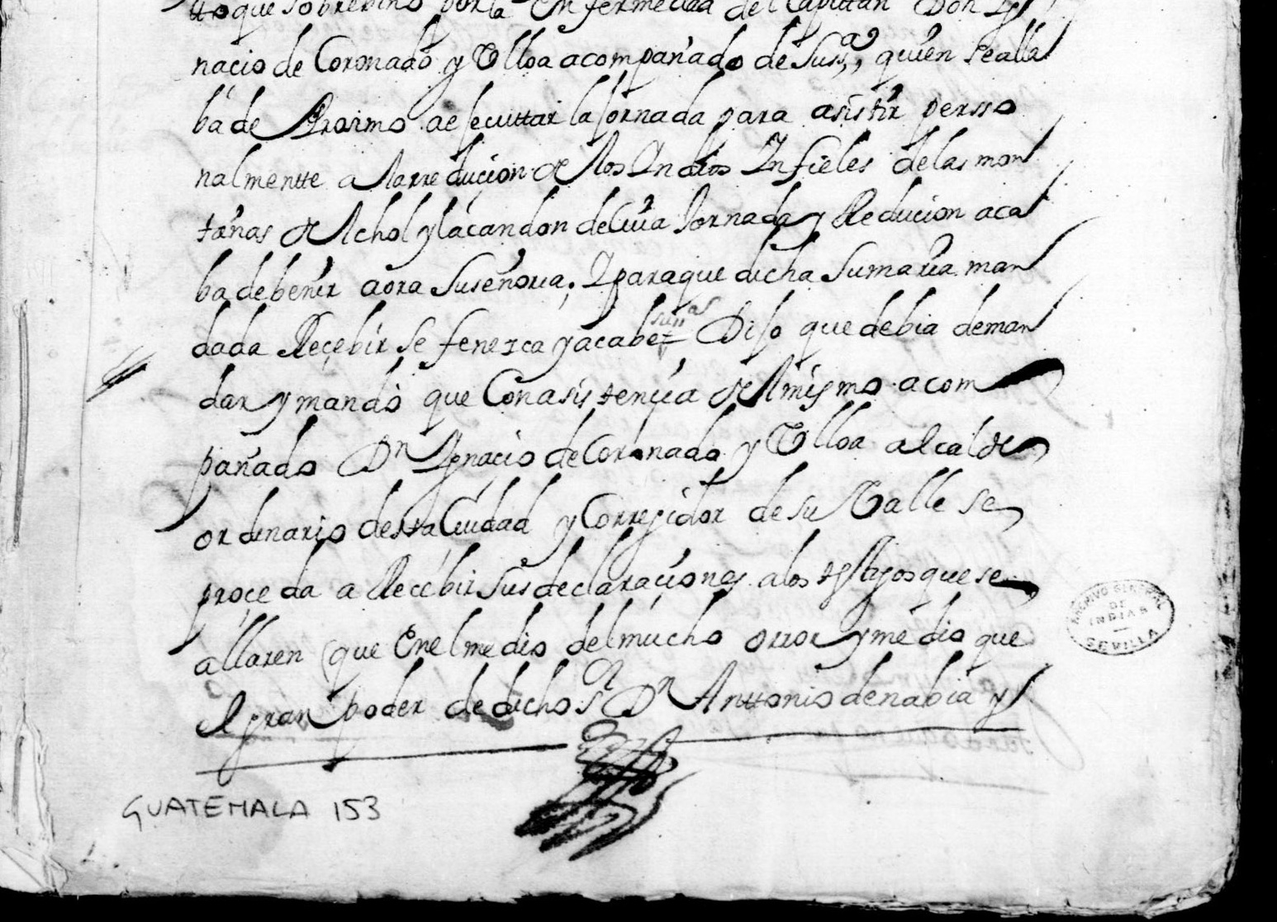lacandon: (438, 184, 567, 239)
